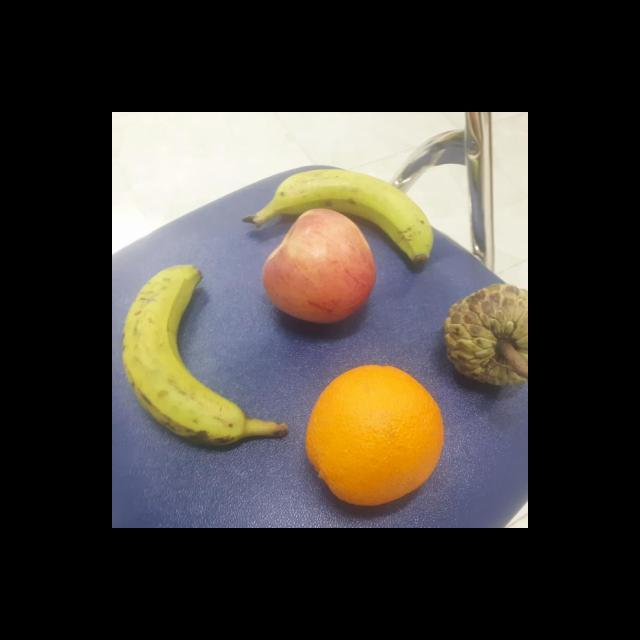Sakya fruit: (444, 280, 528, 388)
apple: (256, 207, 379, 331)
banana: (119, 266, 245, 450)
orange: (305, 363, 444, 508)
